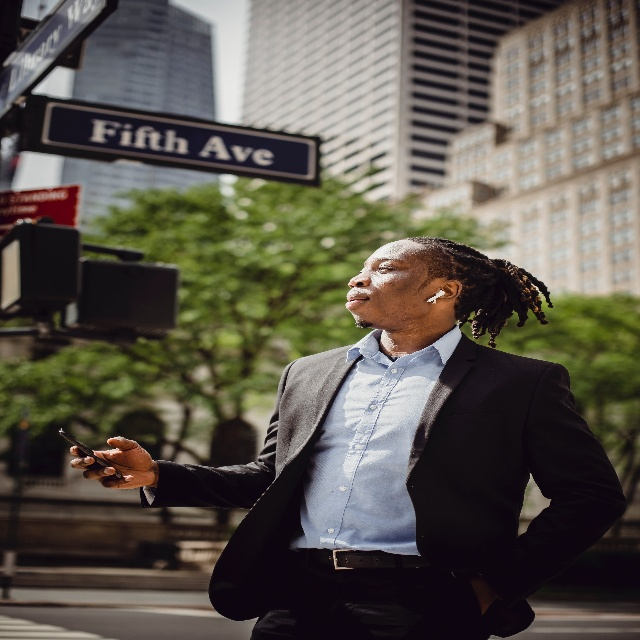Sin_guantes: (70, 434, 160, 494), (472, 572, 497, 617)
